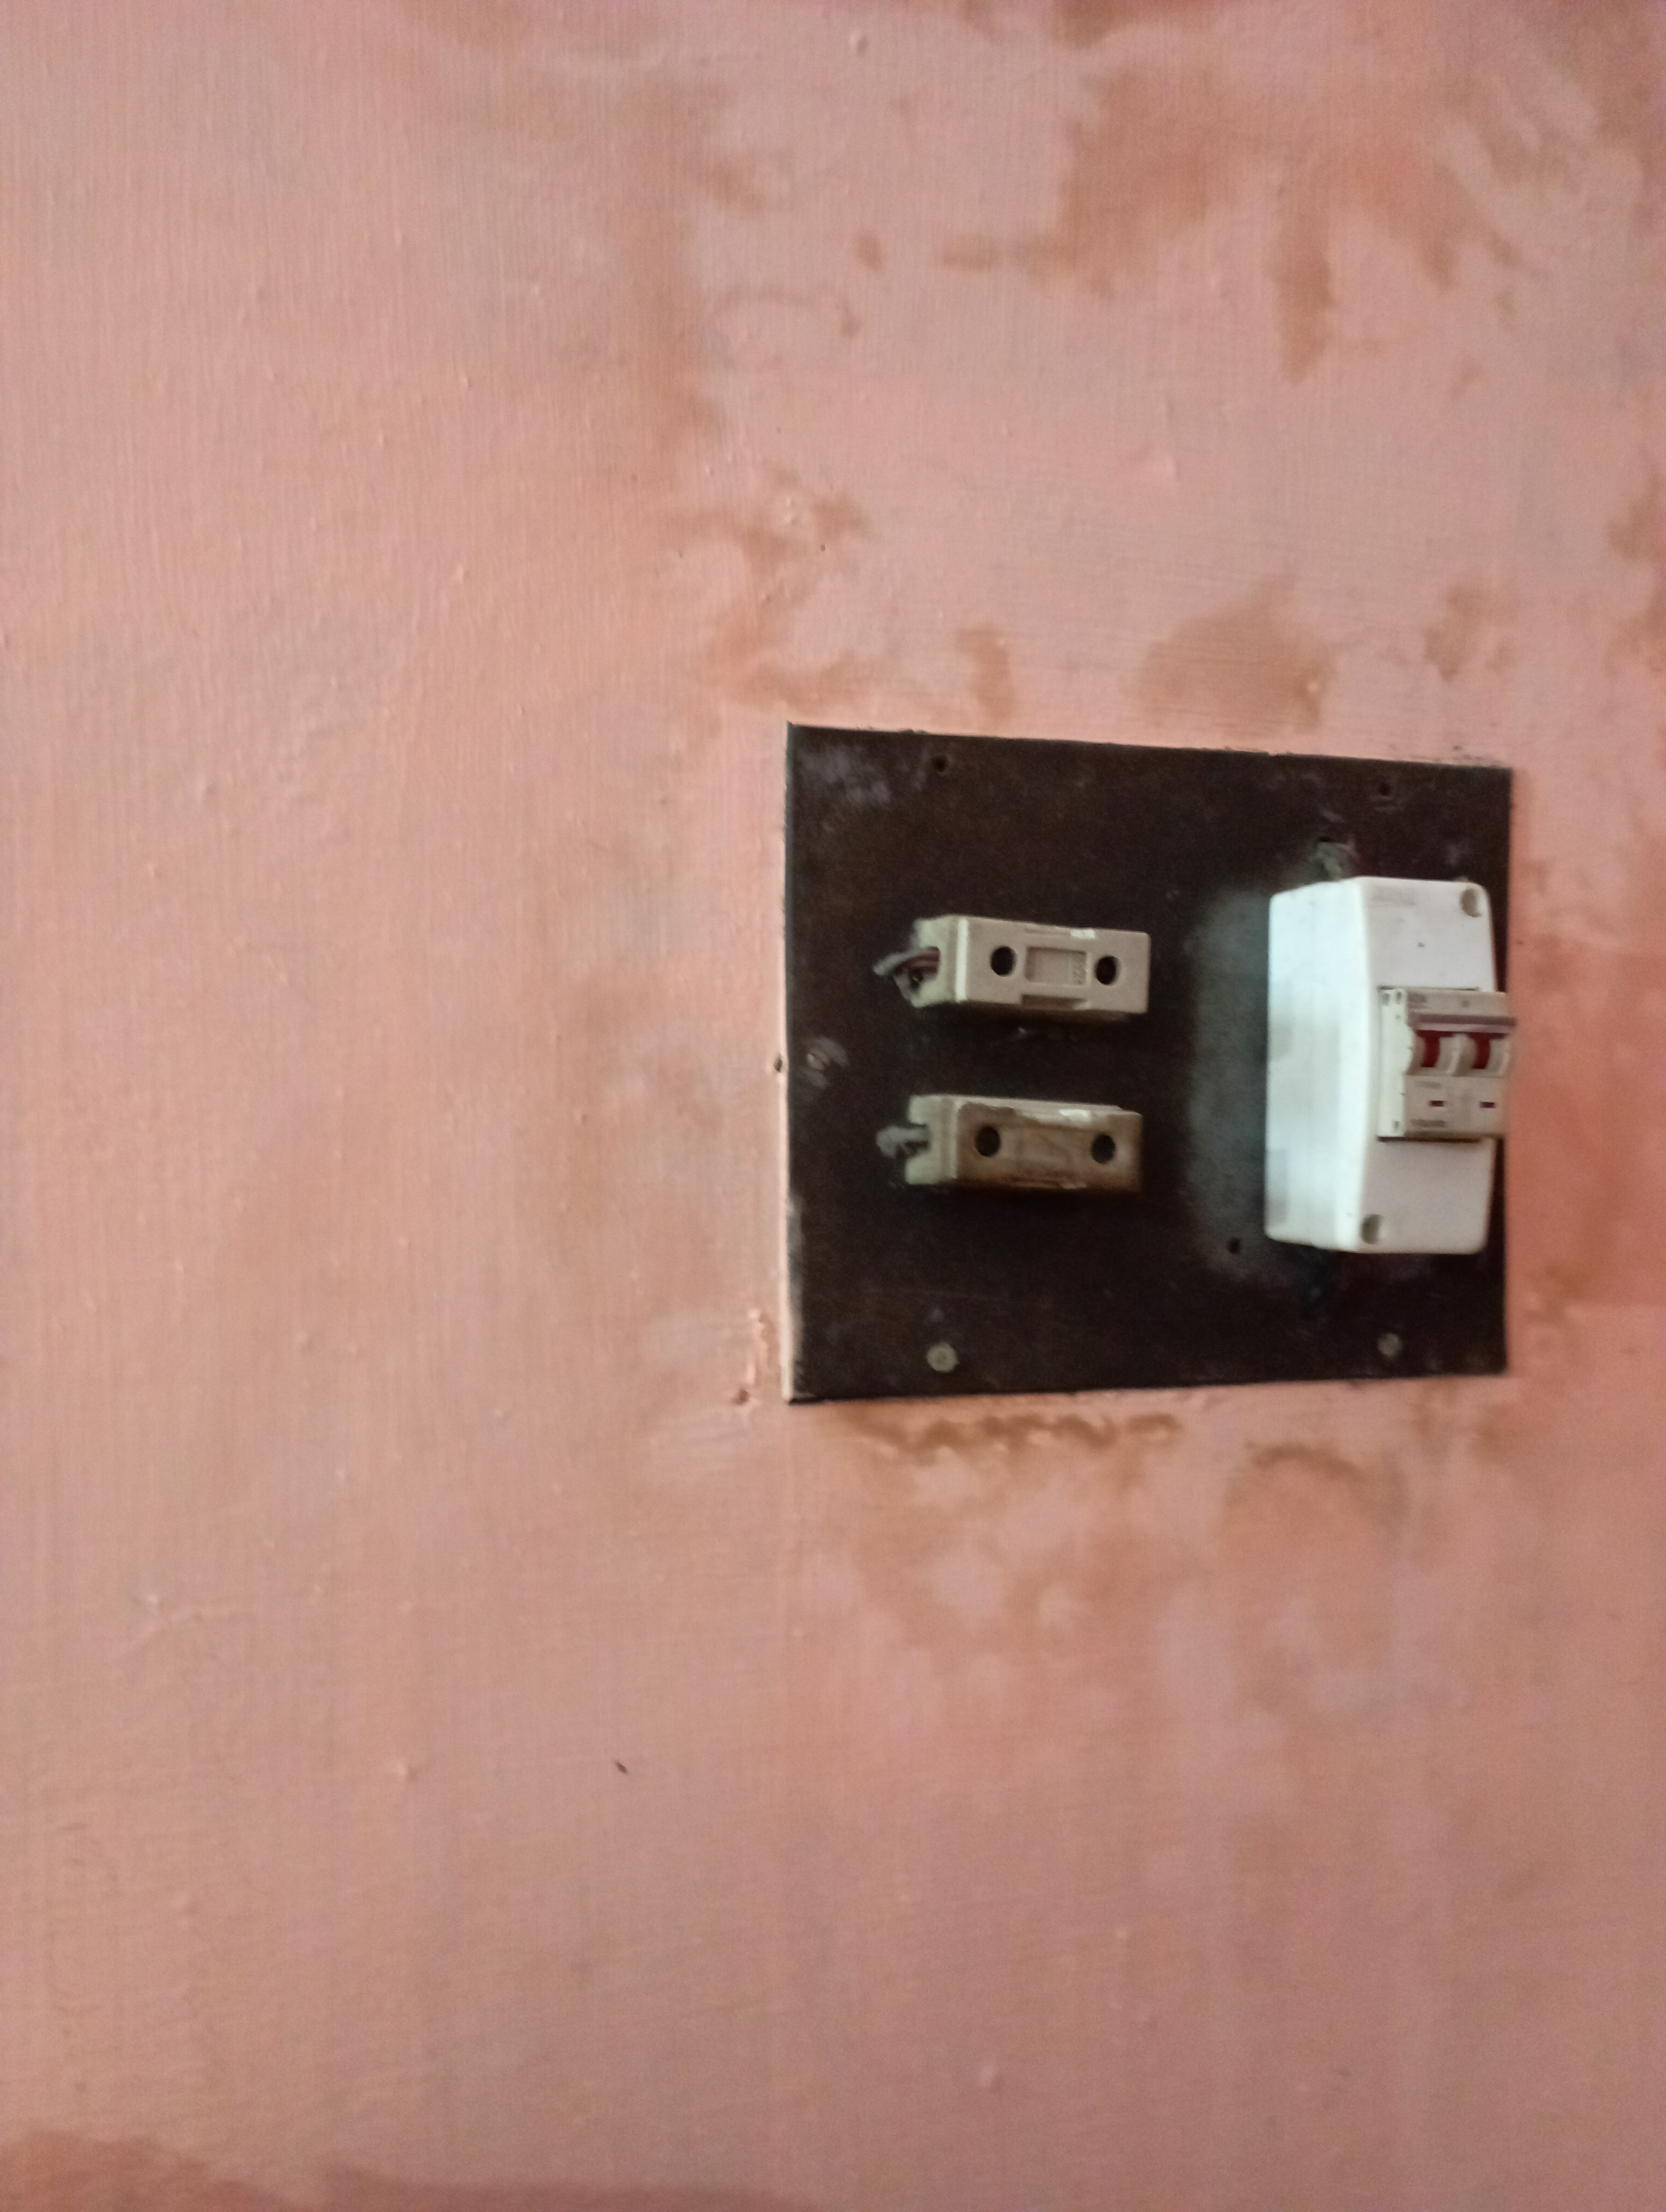ciruit_breaker: (1256, 887, 1524, 1278)
fuse: (856, 887, 1150, 1035), (873, 1088, 1169, 1207)
